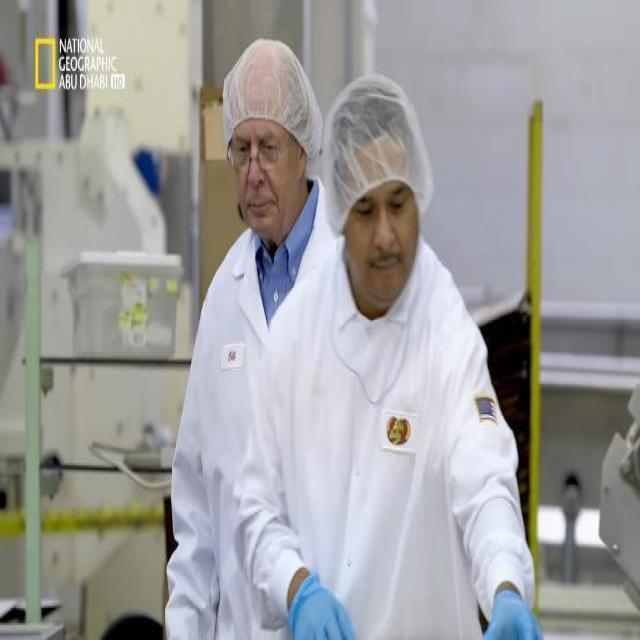gloved_hand: (267, 571, 359, 640), (472, 576, 552, 640)
